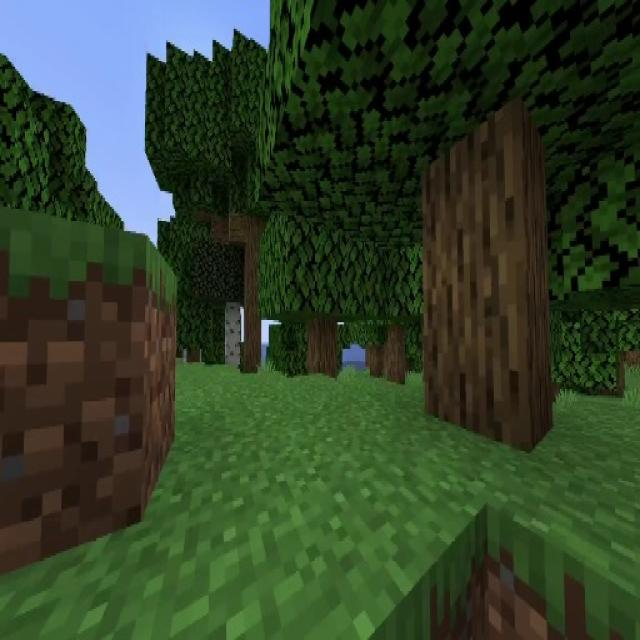birch: (188, 227, 254, 368)
birch_log: (224, 302, 242, 366)
oak: (258, 187, 382, 381), (345, 199, 449, 382)
oak_log: (422, 96, 554, 446), (242, 218, 262, 372), (309, 321, 338, 381), (384, 328, 404, 380)
